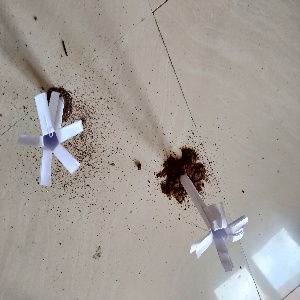weed: (176, 168, 247, 261), (26, 88, 89, 180)
